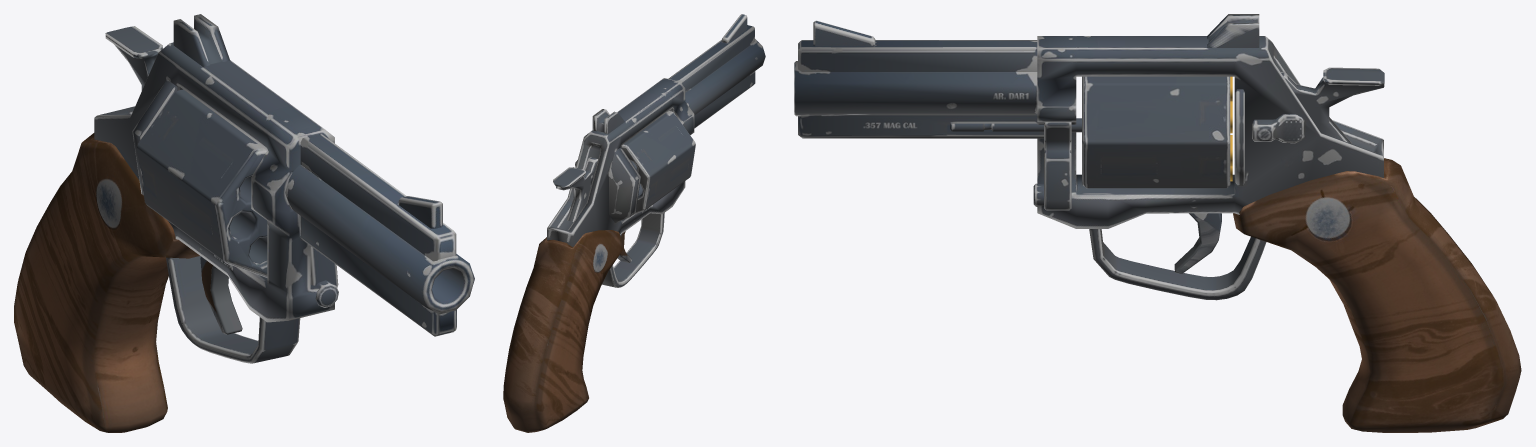
File: ar_-_dar1_-_double_action_pistol.glb
The picture shows the model from 3 angles, left to right: view 1: azimuth 30°, elevation 25°; view 2: azimuth 150°, elevation 25°; view 3: azimuth 270°, elevation 25°; orthographic projection. The views are drawn at different scales.
Parts seen in each view (by area): view 1: pasted__pCube13, pasted__pCylinder8, pasted__pCube6, pasted__pCube12, polySurface60, polySurface61; view 2: pasted__pCube13, pasted__pCylinder8, pasted__pCube6; view 3: pasted__pCube13, pasted__pCylinder8, pasted__pCube6, polySurface60, pasted__pCube12, polySurface59.
Part boxes in pixels (bbox=[...]): pasted__pCube13: bbox=[14, 14, 474, 432]; pasted__pCylinder8: bbox=[136, 89, 267, 277]; pasted__pCube6: bbox=[105, 26, 162, 90]; pasted__pCube12: bbox=[200, 256, 242, 334]; polySurface60: bbox=[310, 246, 338, 287]; polySurface61: bbox=[315, 280, 338, 307]; pasted__pCube13: bbox=[503, 14, 765, 432]; pasted__pCylinder8: bbox=[575, 111, 695, 214]; pasted__pCube6: bbox=[553, 157, 597, 221]; pasted__pCube13: bbox=[794, 14, 1521, 432]; pasted__pCylinder8: bbox=[1082, 76, 1230, 188]; pasted__pCube6: bbox=[1281, 67, 1384, 143]; polySurface60: bbox=[1044, 122, 1071, 210]; pasted__pCube12: bbox=[1174, 213, 1221, 273]; polySurface59: bbox=[950, 118, 1081, 132].
Size of the model in its own units: 0.5254 by 1.74 by 2.83.
1 material, 1 textured.
